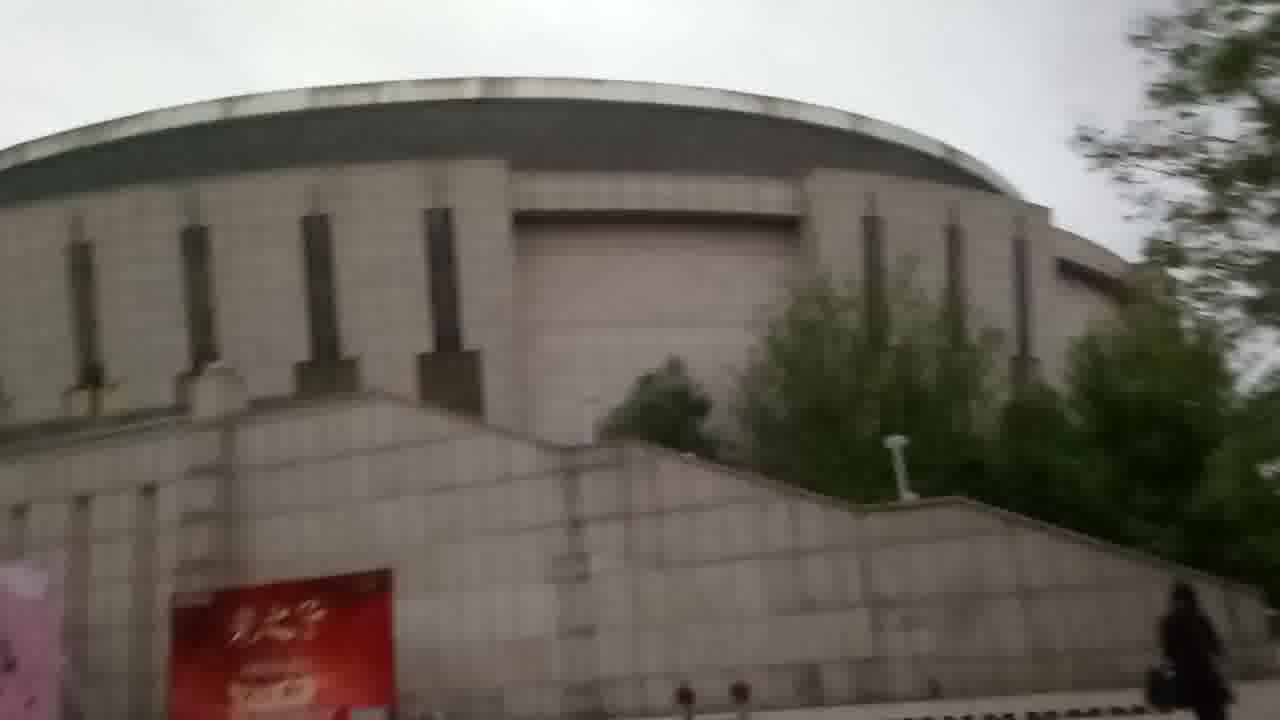zhongtiww: (3, 72, 1233, 720)
